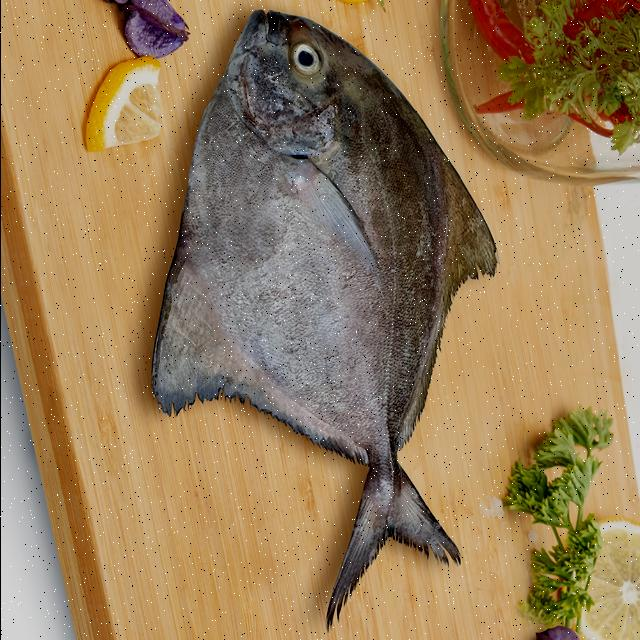Mulut: (221, 0, 305, 84)
Sirip Anal: (243, 368, 379, 468)
Sirip Dada: (261, 130, 393, 290)
Sirip Ekor: (312, 462, 476, 640)
Sirip Perut: (122, 243, 242, 449)
Sirip Punggung: (394, 164, 510, 456)
